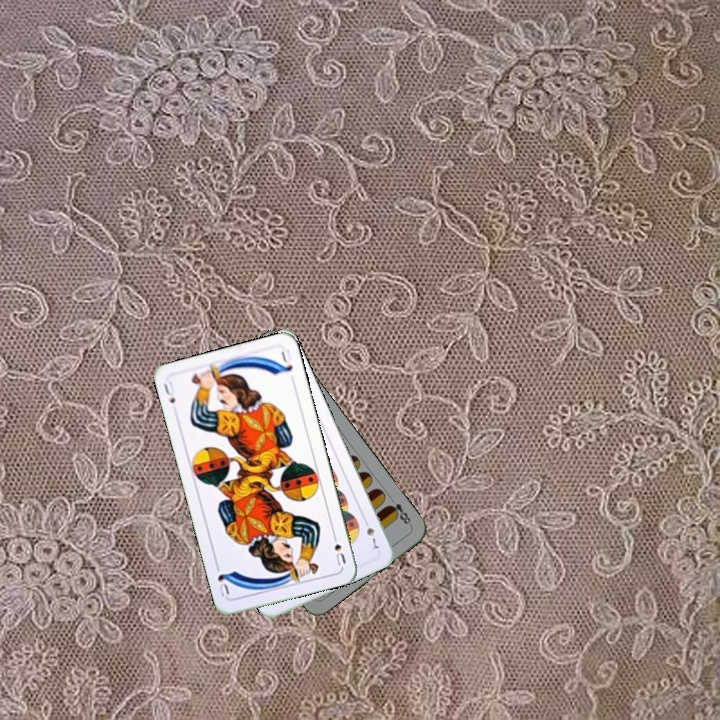E8: (384, 493, 414, 529)
S7: (360, 514, 382, 553)
SU: (328, 529, 348, 568), (159, 377, 178, 406)
